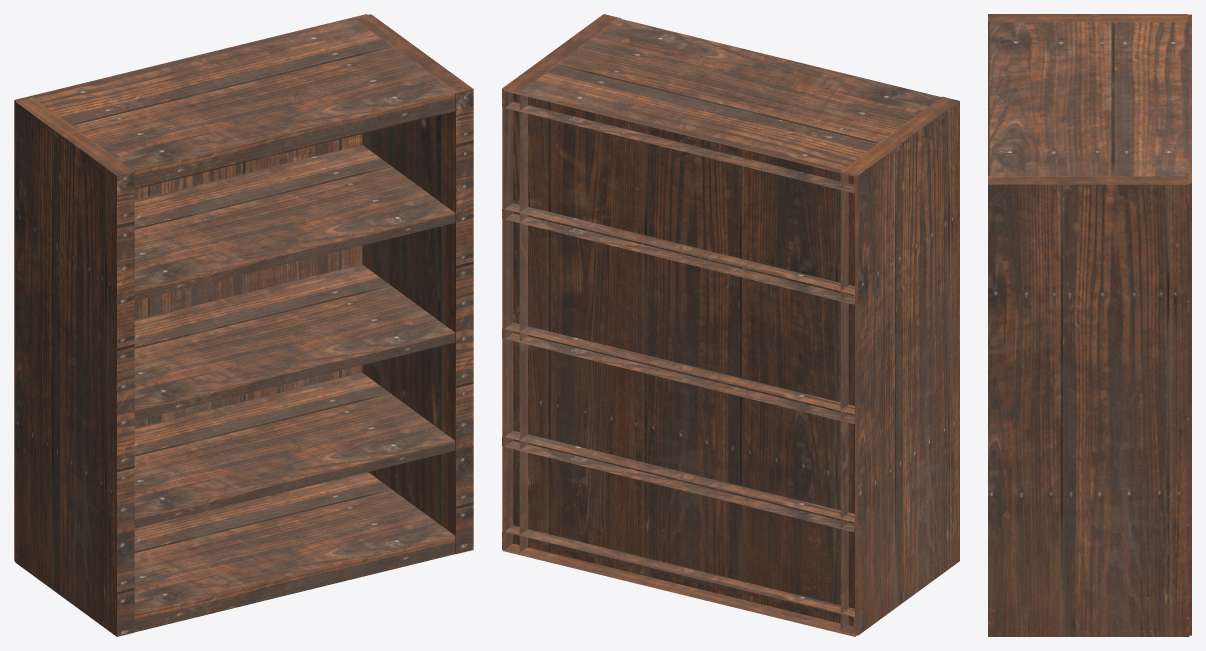
The model's file is Shelf_Wood_001.fbx.
The picture shows the model from 3 angles, left to right: view 1: azimuth 30°, elevation 25°; view 2: azimuth 150°, elevation 25°; view 3: azimuth 270°, elevation 25°; orthographic projection.
Visible parts, largest first — view 1: Shelf_Wood_001; view 2: Shelf_Wood_001; view 3: Shelf_Wood_001.
Boxes of the visible parts, x1=… form: Shelf_Wood_001: x1=14, y1=14, x2=473, y2=636; Shelf_Wood_001: x1=502, y1=14, x2=959, y2=636; Shelf_Wood_001: x1=988, y1=14, x2=1191, y2=636.
Size of the model in its own units: 202 by 250 by 102.
